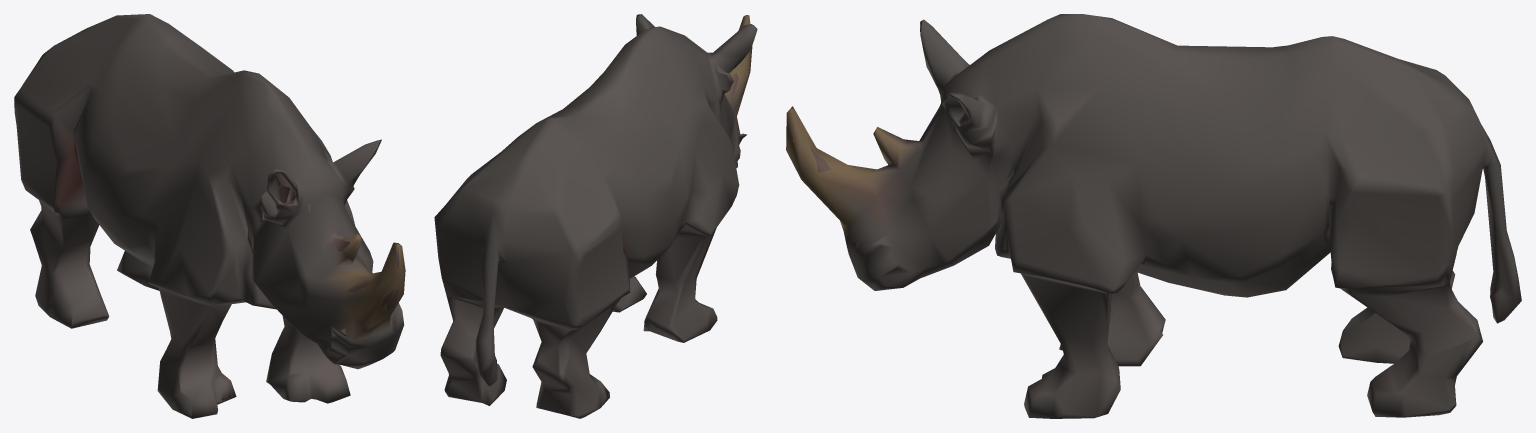
The model's file is gen3d-rhino-lod0.glb.
The picture shows the model from 3 angles, left to right: view 1: azimuth 30°, elevation 25°; view 2: azimuth 150°, elevation 25°; view 3: azimuth 270°, elevation 25°; orthographic projection. The views are drawn at different scales.
Visible parts, largest first — view 1: part_0; view 2: part_0; view 3: part_0.
Boxes of the visible parts, left/top/right/bottom form: part_0: left=14, top=14, right=405, bottom=418; part_0: left=434, top=14, right=757, bottom=418; part_0: left=786, top=14, right=1521, bottom=418.
Bounding box in the file's own units: 0.5962 × 0.9958 × 1.81.
